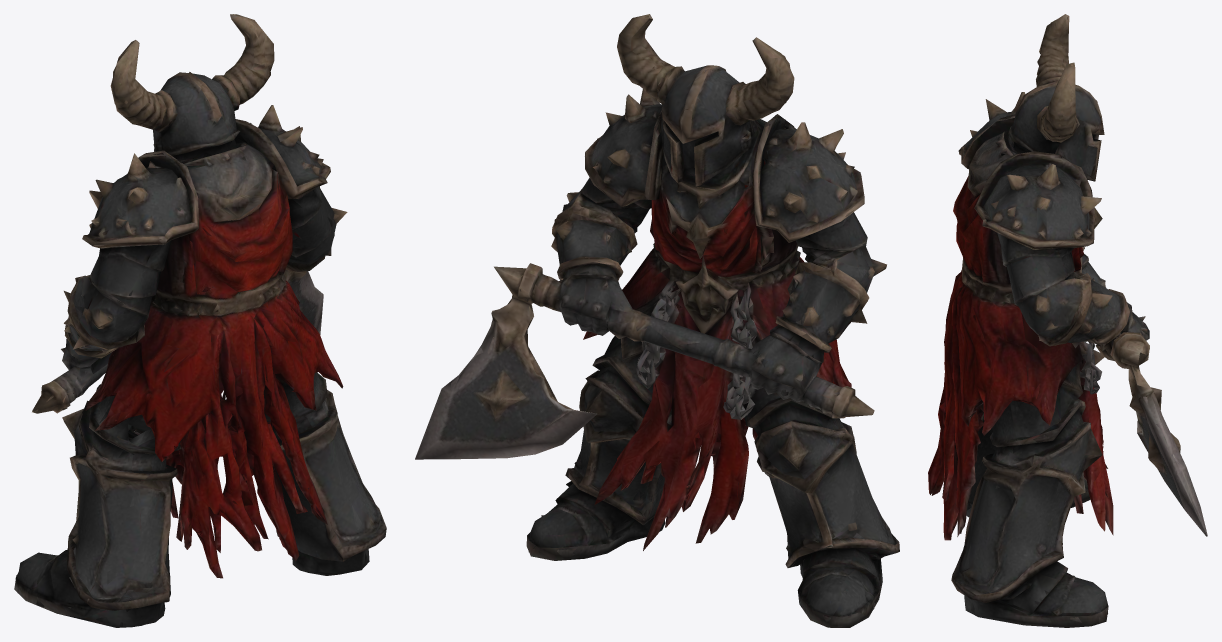
The model's file is black-warriors.glb.
3 renders of one model, left to right at view 1: azimuth 30°, elevation 25°; view 2: azimuth 150°, elevation 25°; view 3: azimuth 270°, elevation 25°, orthographic. The views are drawn at different scales.
Parts seen in each view (by area): view 1: chaos-warriors; view 2: chaos-warriors; view 3: chaos-warriors.
Part boxes in pixels (left/top/right/bottom): chaos-warriors: left=14, top=14, right=386, bottom=627; chaos-warriors: left=415, top=14, right=899, bottom=627; chaos-warriors: left=928, top=14, right=1207, bottom=627.
Bounding box in the file's own units: 0.3953 × 0.5508 × 0.2711.
Materials: 1 (1 with a texture image).
